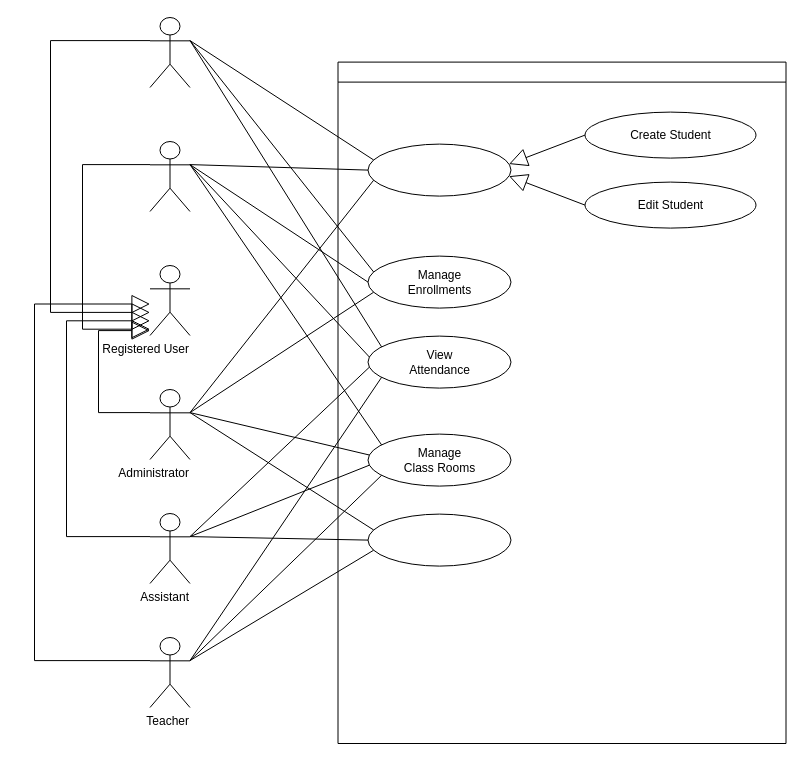
This 804x761 diagram has some shape labels left out. Here are the shapes that lost their labels. From the top down, the box of each, then its label:
(149, 16, 190, 88): Accountant
(149, 140, 190, 212): Manager
(367, 143, 511, 196): Manage Students
(337, 61, 786, 744): LMSERP OneWorld
(367, 513, 511, 566): Take Attendance
